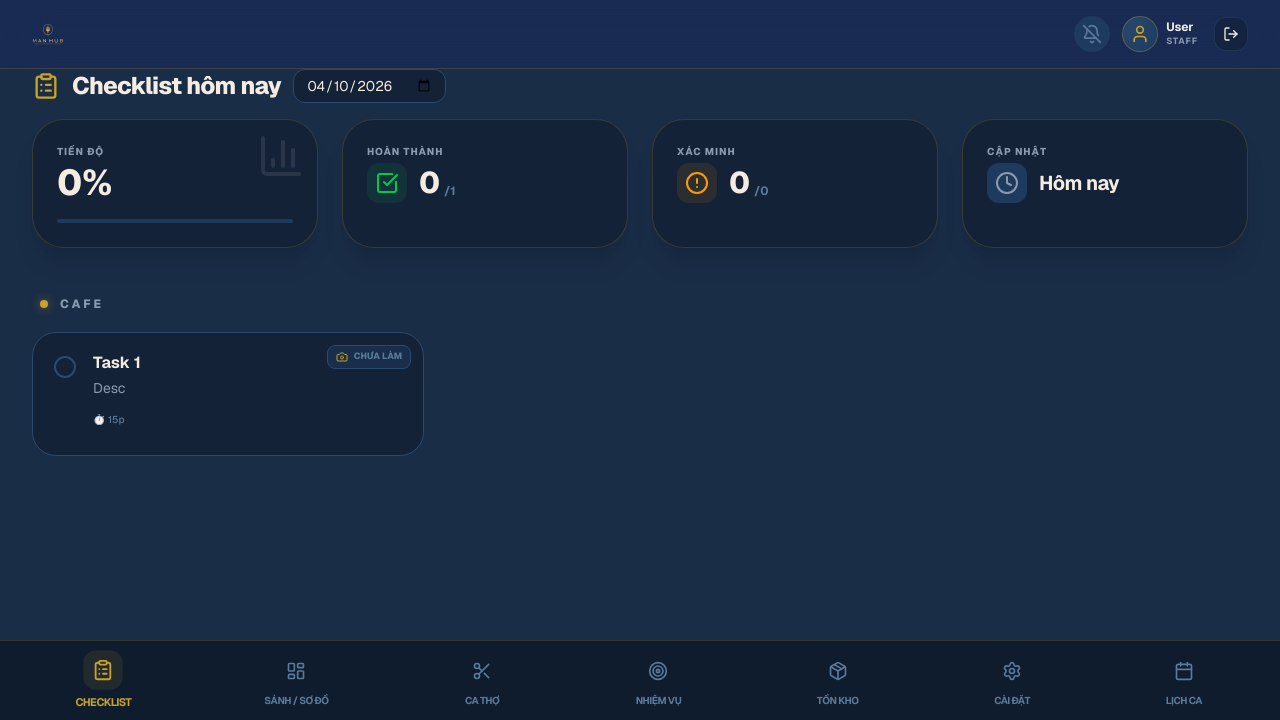
Test case: shows settings tab for admin users
This screenshot has width=1280, height=720.
Expected: the text "Cài đặt" is shown, [994, 693, 1030, 708]
Click the button "Cài đặt". click: [1012, 680]
box: [994, 653, 1030, 708]
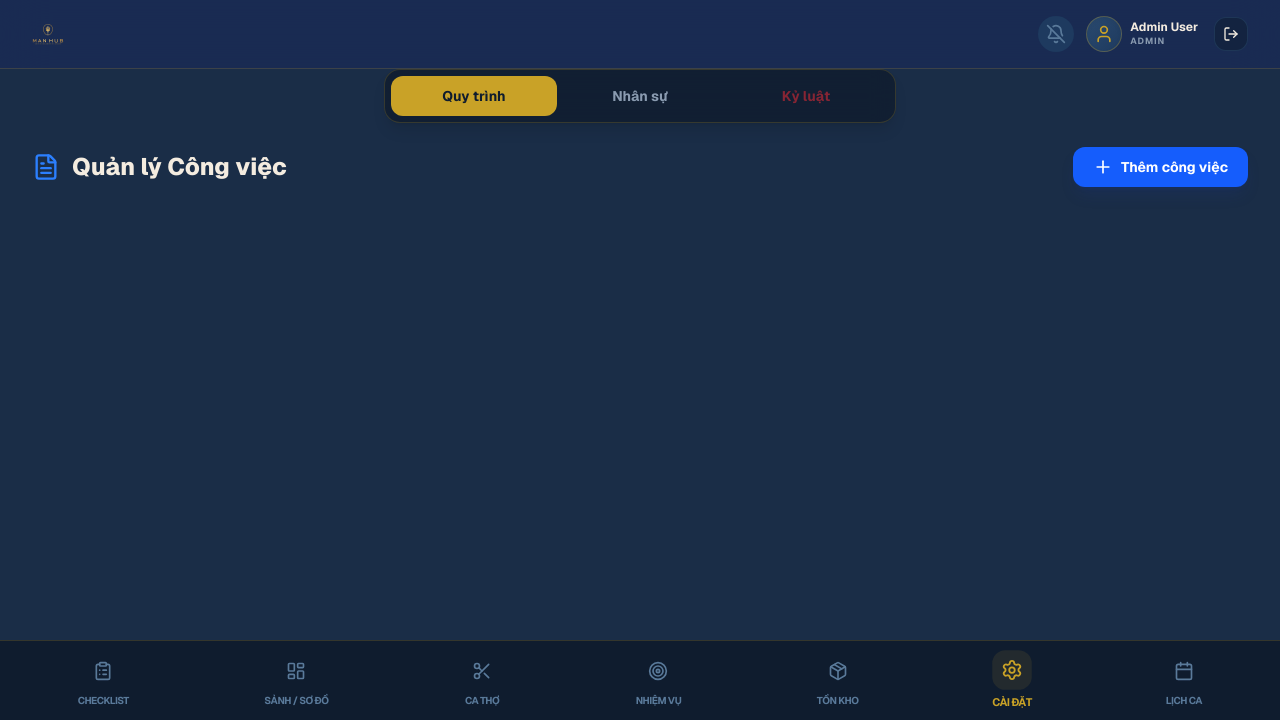
Now the heading "Quản lý Công việc" is shown, box [32, 151, 287, 183]
